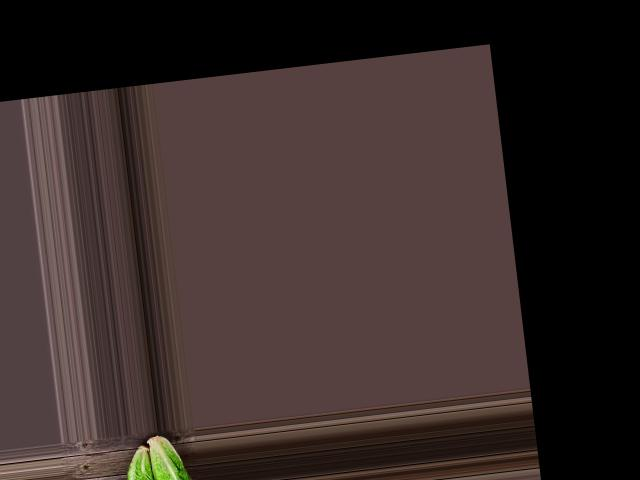lettuce: (145, 428, 202, 480)
